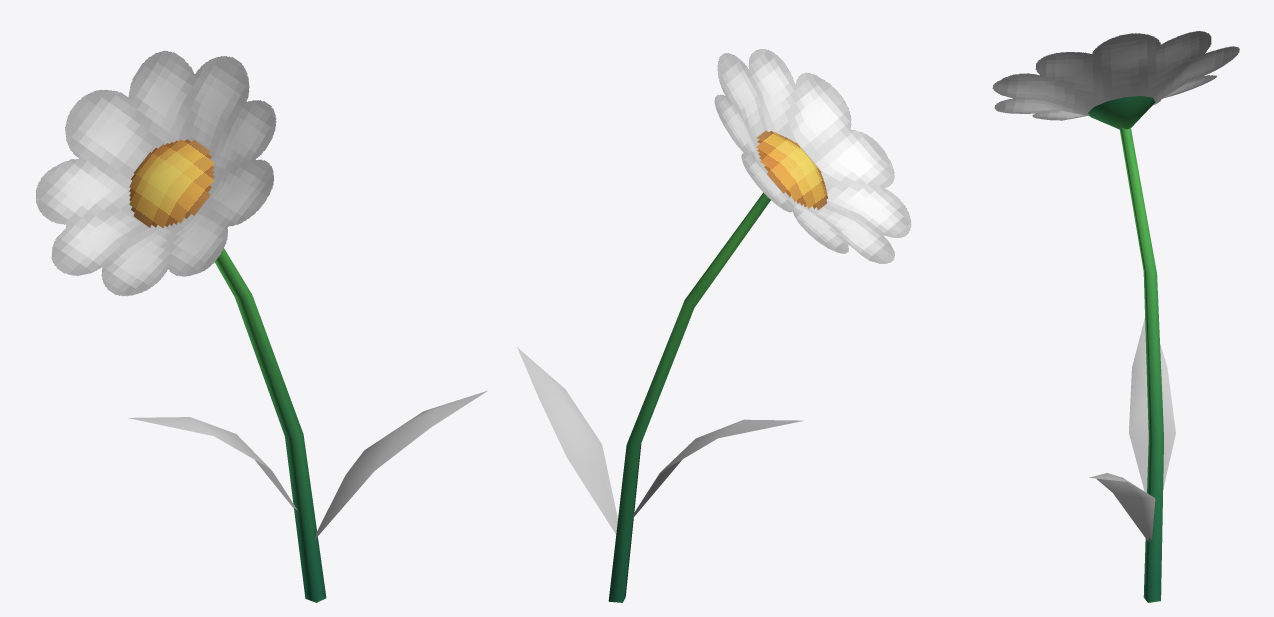
Rendered from Flower_Daisy_3.fbx.
3 renders of one model, left to right at view 1: azimuth 30°, elevation 25°; view 2: azimuth 150°, elevation 25°; view 3: azimuth 270°, elevation 25°, orthographic. The views are drawn at different scales.
Visible parts, largest first — view 1: Cone.080, Cube.082, Cone.081, object6.063, object6.062; view 2: Cone.080, Cube.082, object6.063, Cone.081, object6.062; view 3: Cone.080, Cube.082, object6.062, object6.063, Cylinder.086.
Part boxes in pixels (<box>): Cone.080: <box>36,50,276,296</box>; Cube.082: <box>215,248,326,602</box>; Cone.081: <box>129,139,214,228</box>; object6.063: <box>315,390,487,539</box>; object6.062: <box>128,417,297,510</box>; Cone.080: <box>714,49,911,263</box>; Cube.082: <box>608,192,770,602</box>; object6.063: <box>517,347,617,534</box>; Cone.081: <box>756,131,827,209</box>; object6.062: <box>633,419,803,517</box>; Cone.080: <box>992,31,1239,120</box>; Cube.082: <box>1120,127,1163,602</box>; object6.062: <box>1129,318,1175,492</box>; object6.063: <box>1089,473,1155,541</box>; Cylinder.086: <box>1088,96,1155,129</box>.
Size of the model in its own units: 31.94 by 42.26 by 20.57.
